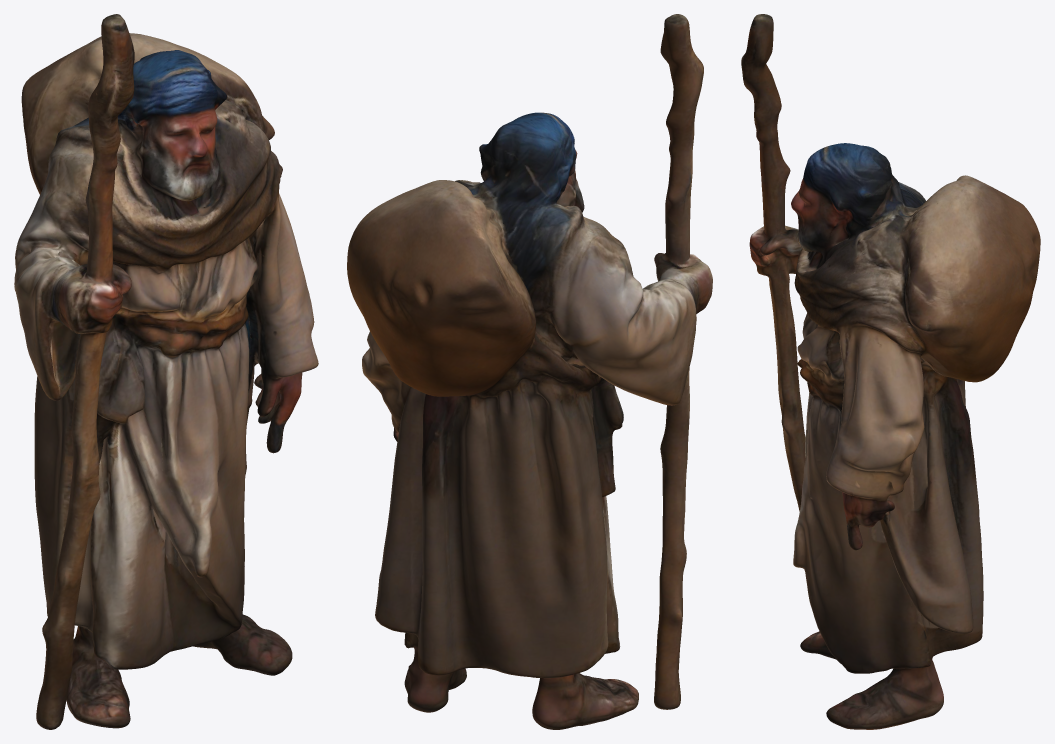
The model's file is Meshy_AI_A_nomad_from_the_bibl_0319014416_texture.glb.
3 views of the same model, side by side, from view 1: azimuth 30°, elevation 25°; view 2: azimuth 150°, elevation 25°; view 3: azimuth 270°, elevation 25° (orthographic). The views are drawn at different scales.
Size of the model in its own units: 0.8937 by 2 by 0.8714.
1 material, 1 textured.
